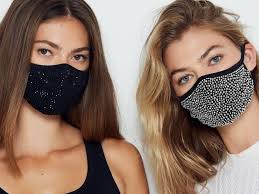with-mask: (154, 13, 259, 131), (10, 3, 99, 124)
